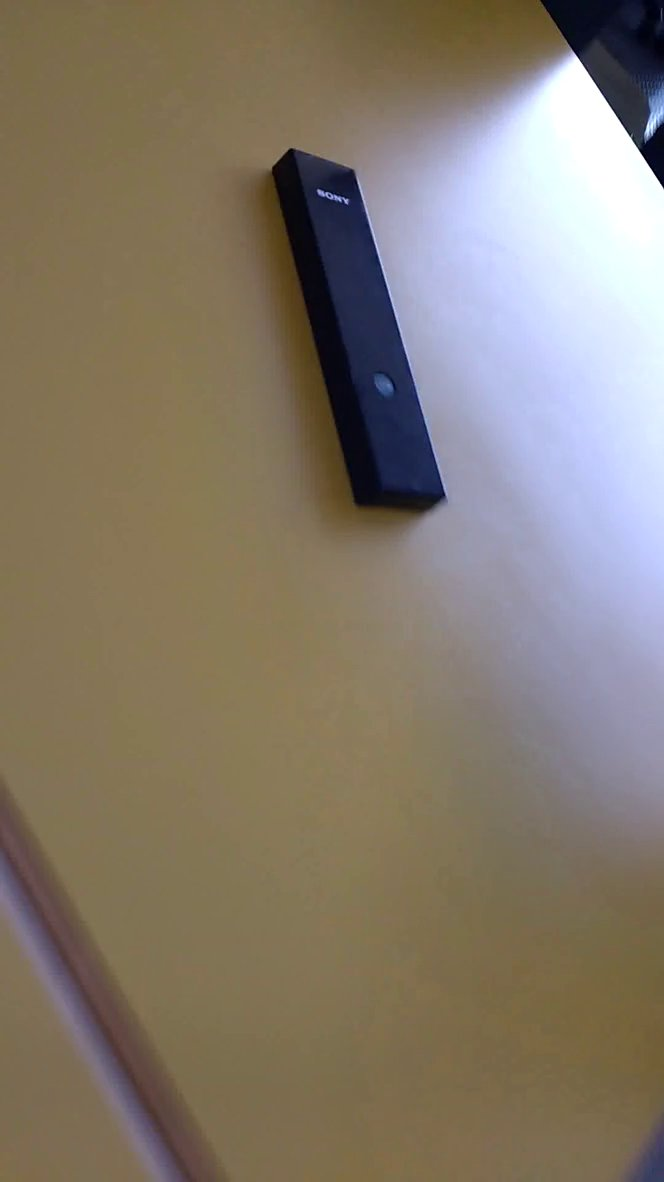remote: (263, 138, 464, 529)
